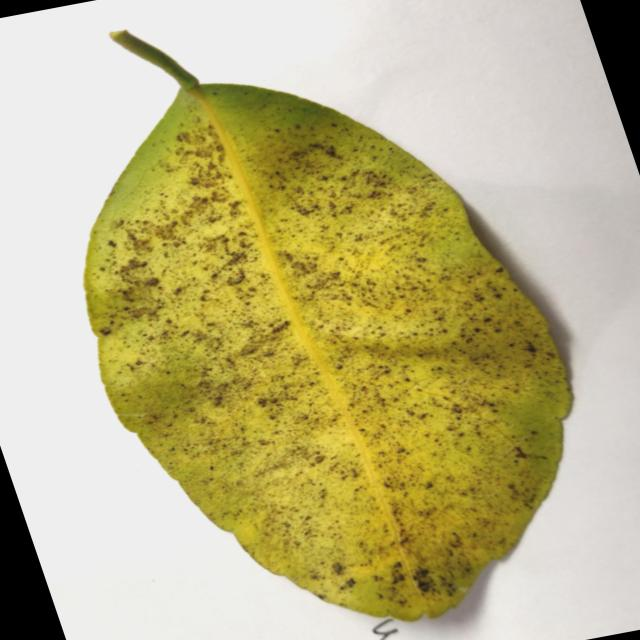melanose: (85, 32, 571, 620)
